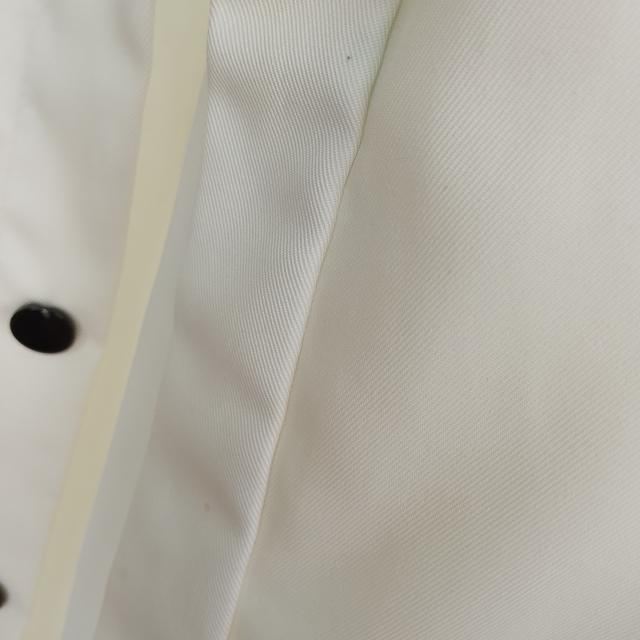education_male_uniform: (8, 11, 351, 512)
